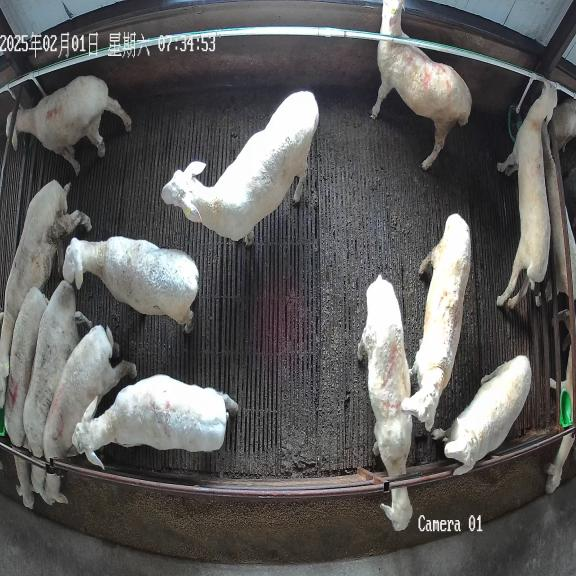eating: (43, 325, 136, 503), (23, 280, 93, 499), (357, 275, 412, 531), (4, 287, 47, 509)
stand: (161, 91, 319, 245), (0, 180, 91, 408), (371, 0, 472, 170), (401, 214, 471, 431), (72, 374, 238, 465), (496, 80, 557, 307), (62, 236, 198, 333), (6, 76, 131, 174), (432, 355, 532, 475)
